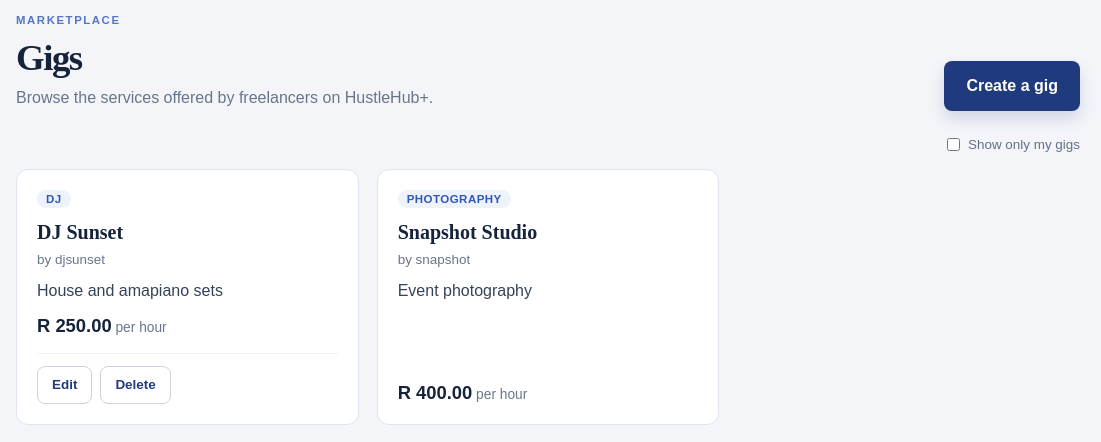
Test: GigsPage › filters the list to only the gigs of the freelancer
The width and height of the screenshot is (1101, 442).
Check: the heading "Snapshot Studio" is shown, box [398,221,537,243]
Click the checkbox labelled "Show only my gigs" at (954, 145), box [947,138,960,151]
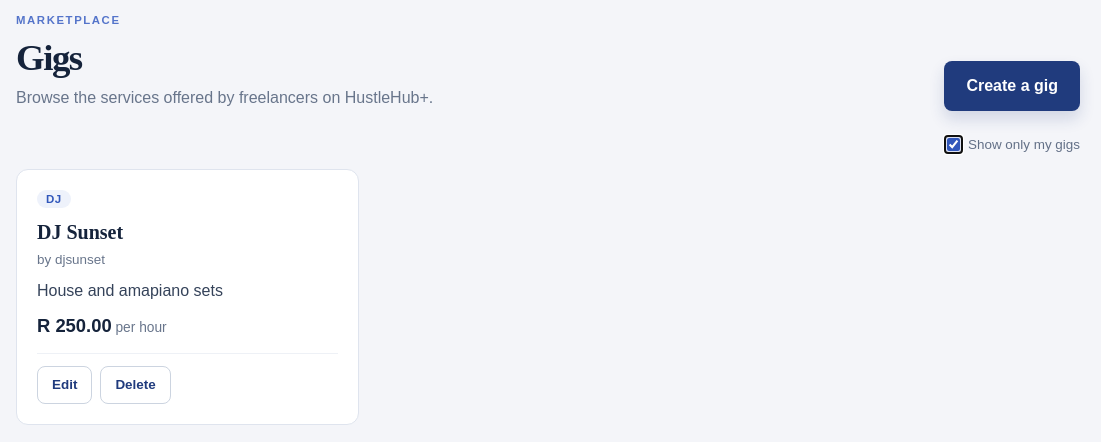
Check: the heading "DJ Sunset" is shown, box [37,221,123,243]
Check: the heading "Snapshot Studio" is gone
